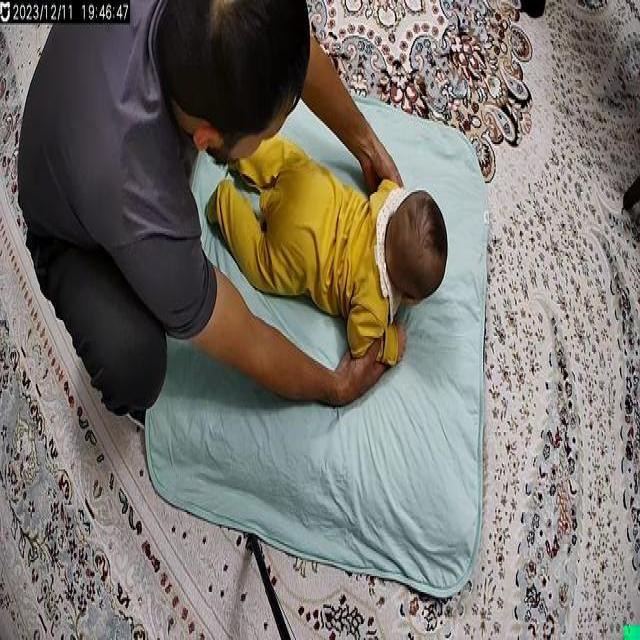baby: (204, 124, 454, 373)
